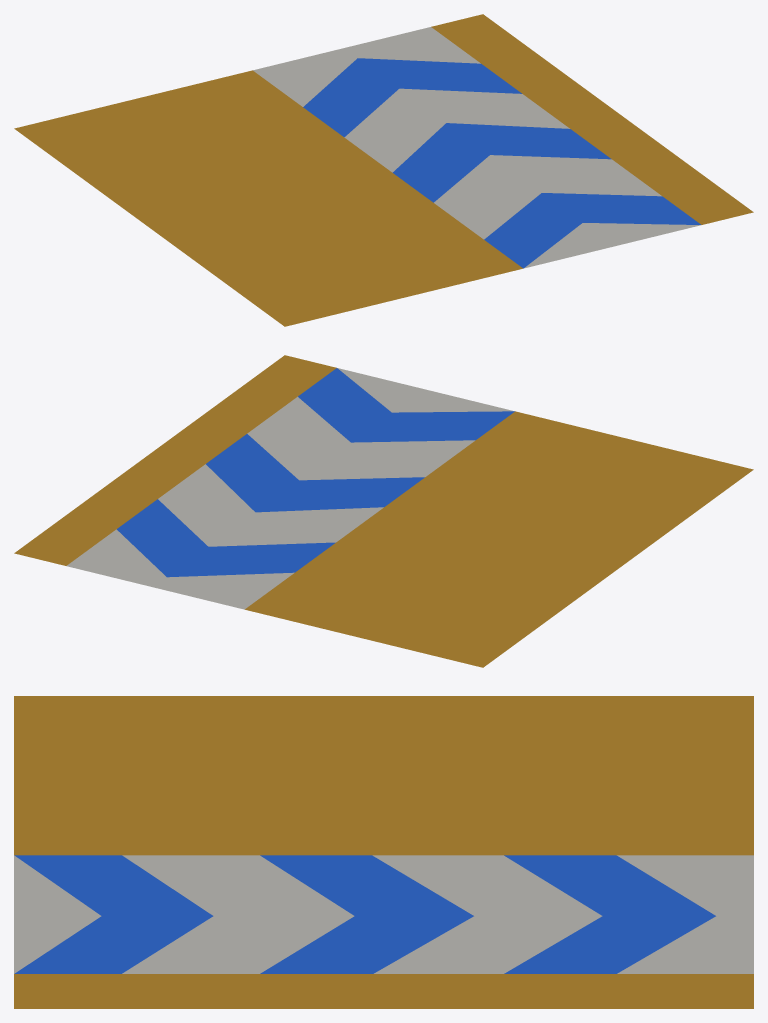
File: Base_RoadSide.fbx
The picture shows the model from 3 angles, top to bottom: view 1: azimuth 30°, elevation 25°; view 2: azimuth 150°, elevation 25°; view 3: azimuth 270°, elevation 25°; orthographic projection. The views are drawn at different scales.
Visible parts, largest first — view 1: Base_RoadSide; view 2: Base_RoadSide; view 3: Base_RoadSide.
Boxes of the visible parts, x1,y1,x2,y2 form: Base_RoadSide: (14,14,753,326); Base_RoadSide: (14,355,753,667); Base_RoadSide: (14,696,753,1008).
Bounding box in the file's own units: 2000 × 0.000366 × 2000.
